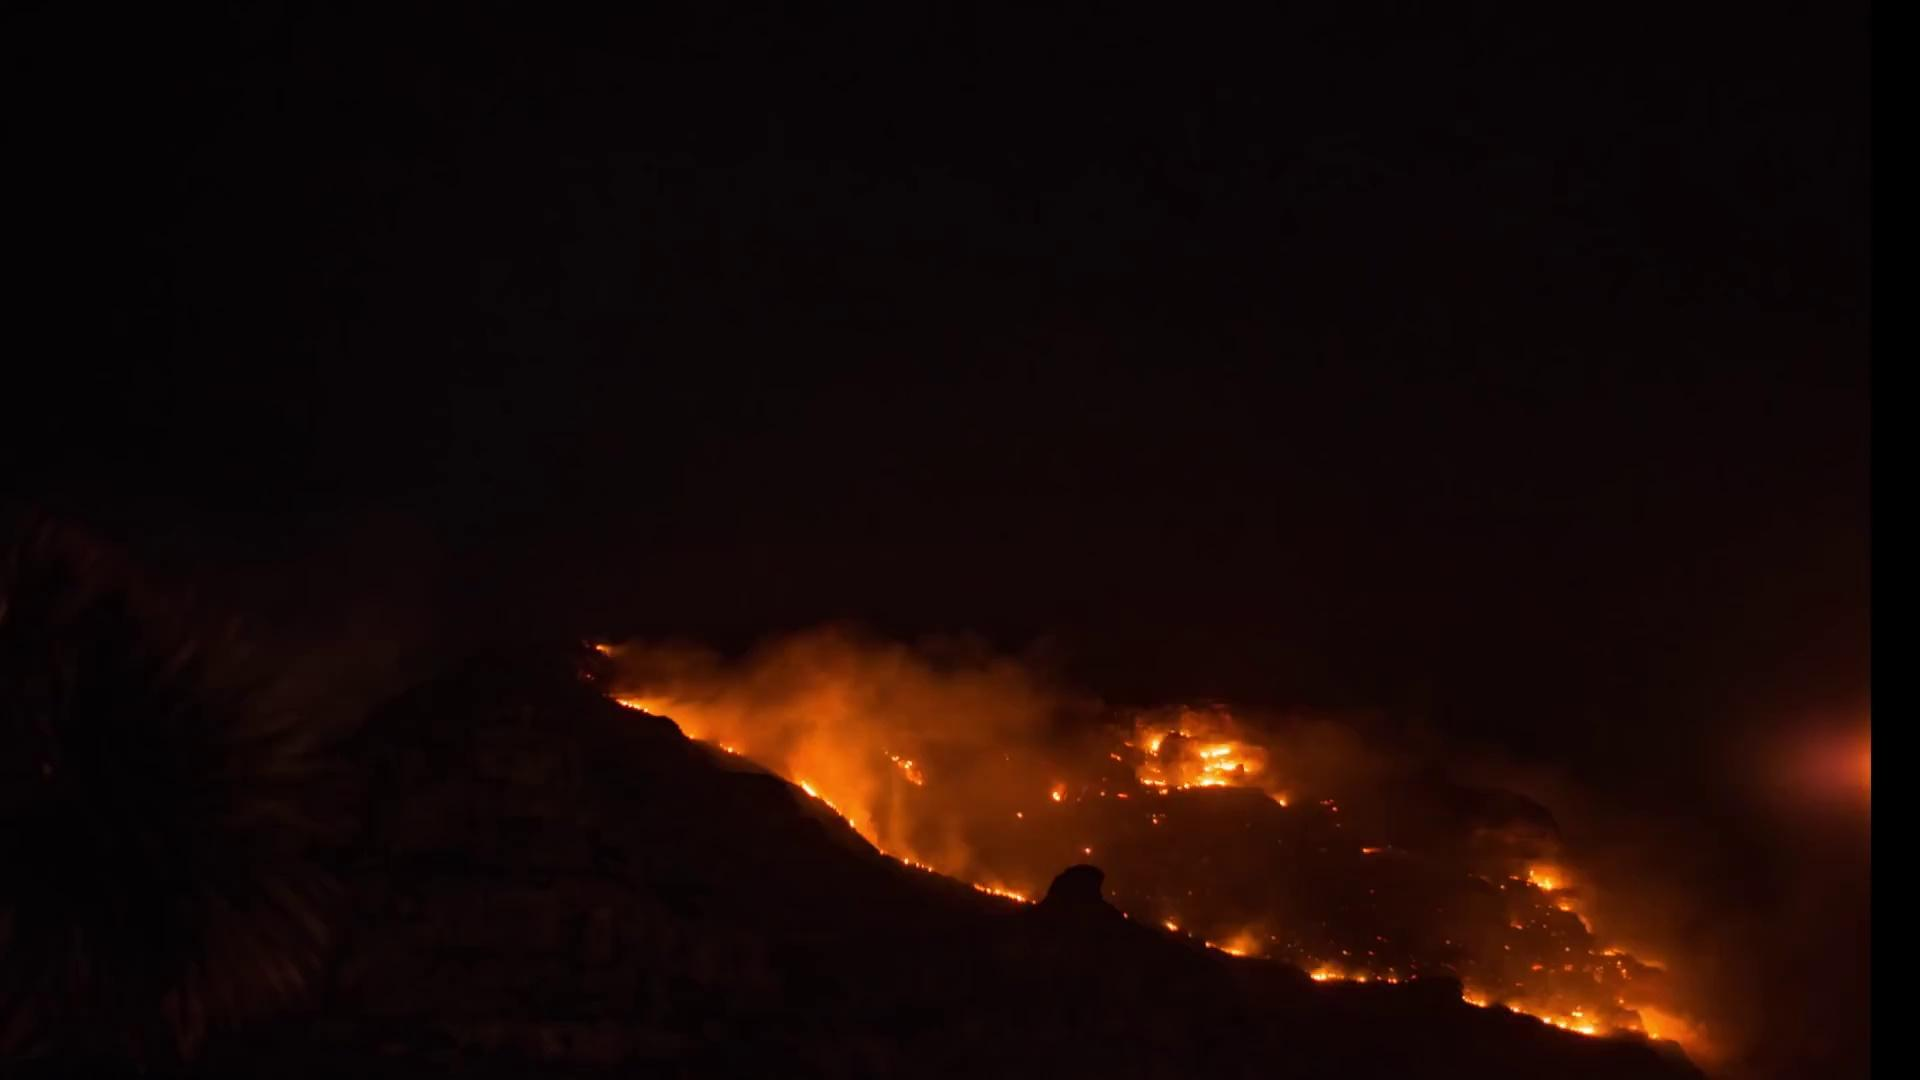fire: (1490, 988, 1753, 1047), (781, 732, 899, 820), (1145, 708, 1255, 798)
